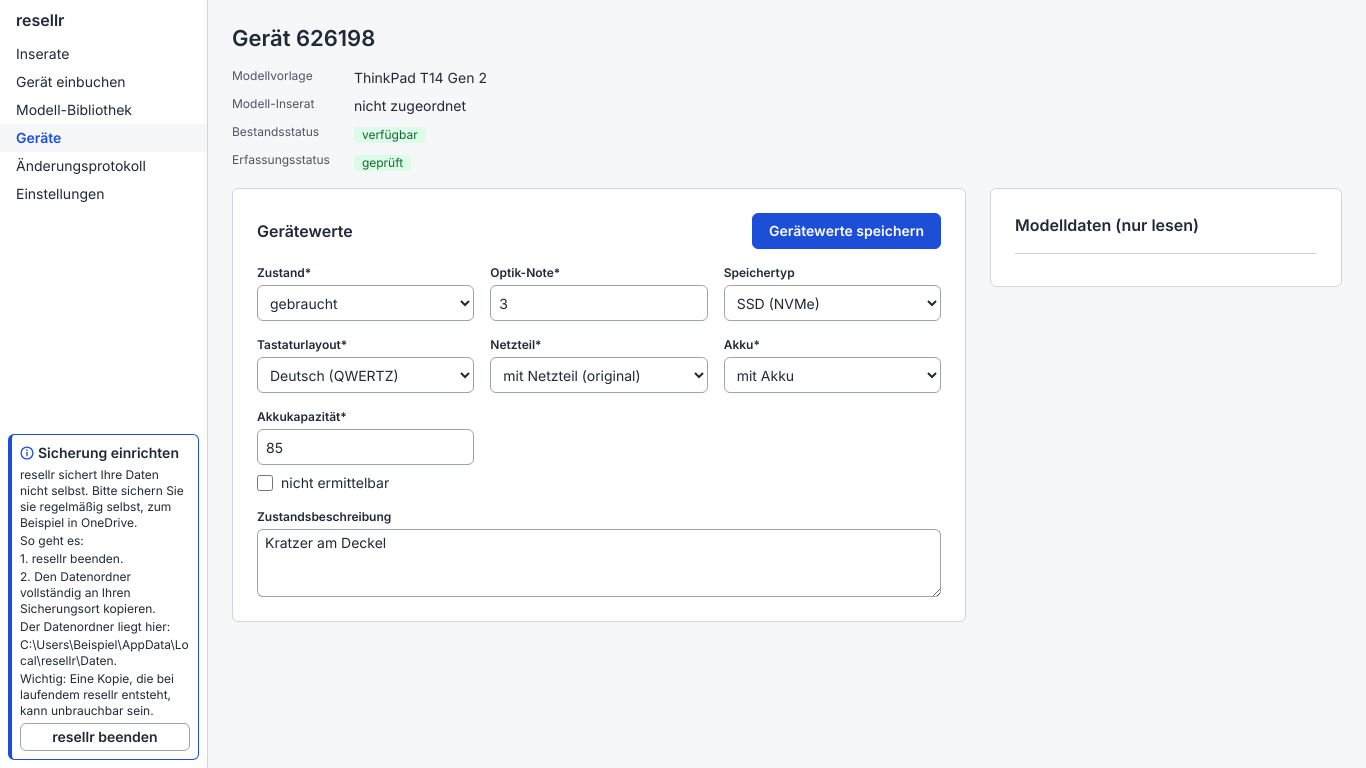
it: UI-010 Gerätewerte (CU-137, Story #56) › UI-010.default UI-010.success DER-56-01 shows the form of UI-003 without WI-Nr, saves a changed value with PATCH and shows "Gerät gespeichert"
This screenshot has width=1366, height=768.
Expected: the form named "Gerätewerte" is shown, 257,265 -> 941,597
Expected: the dropdown labelled "Zustand*" shows "gebraucht", 257,285 -> 474,321
Replace the text in the field labelled "Optik-Note*" with "4" at (599, 303), box 490,285 -> 708,321
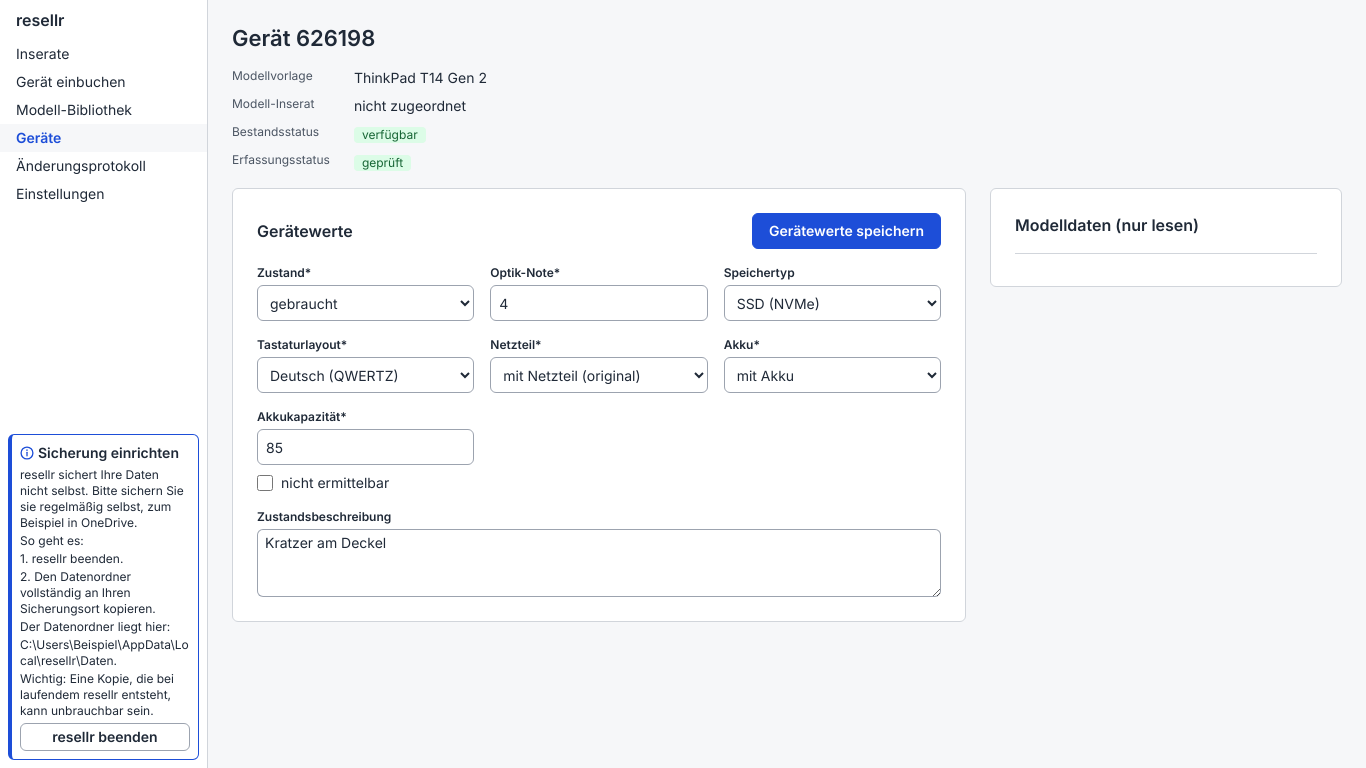
Click the button "Gerätewerte speichern" at (846, 231), box 752,213 -> 941,249
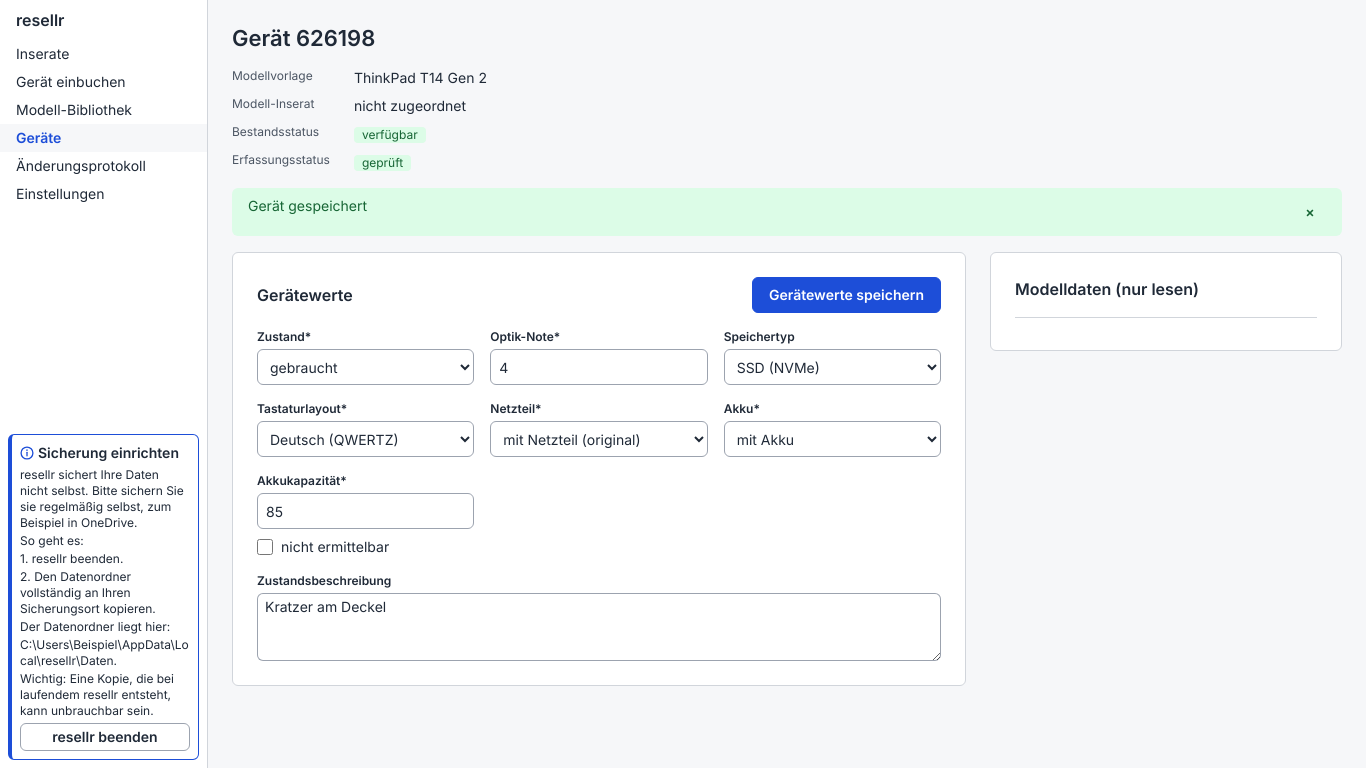
Now the text "Gerät gespeichert" is shown, box 248,197 -> 367,214
